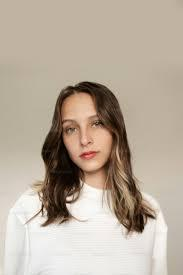person: (36, 76, 139, 188)
